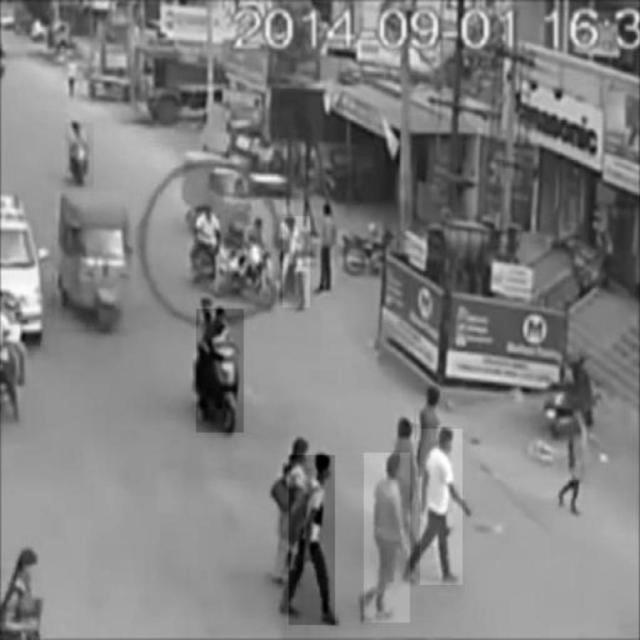accident: (187, 198, 278, 309)
person: (364, 453, 410, 623), (289, 455, 335, 625), (421, 429, 463, 585)
vehicle: (55, 193, 127, 330), (196, 293, 243, 433), (283, 216, 310, 307), (65, 122, 93, 188)
